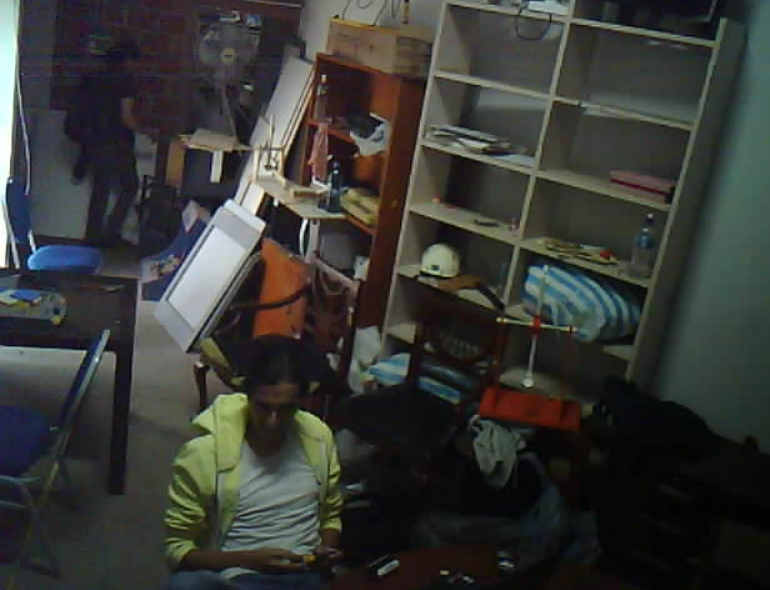person: (148, 318, 363, 590), (46, 20, 186, 274)
